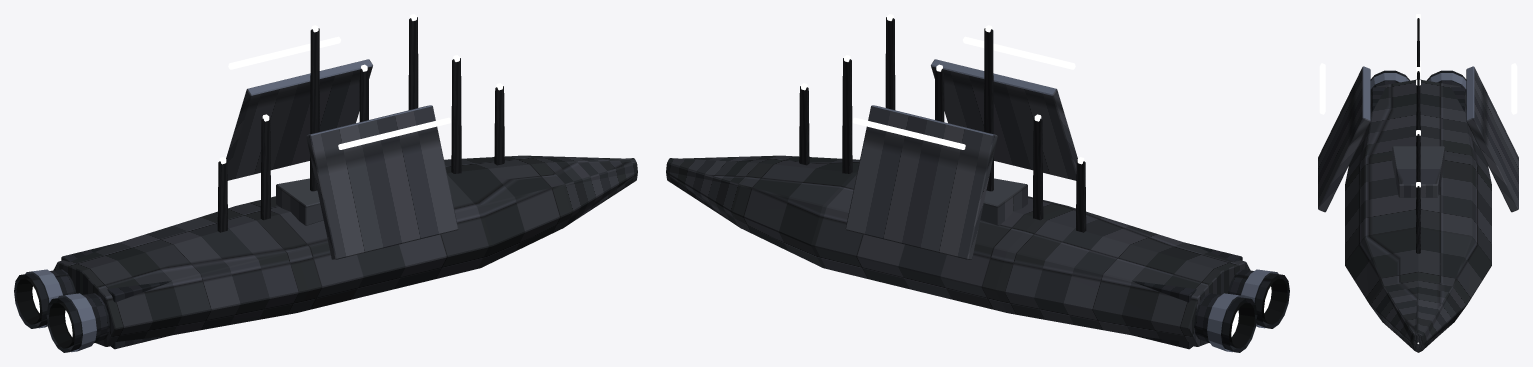
File: ewar.glb
3 views of the same model, side by side, from view 1: azimuth 30°, elevation 25°; view 2: azimuth 150°, elevation 25°; view 3: azimuth 270°, elevation 25° (orthographic). The views are drawn at different scales.
Visible parts, largest first — view 1: ewar; view 2: ewar; view 3: ewar.
Part boxes in pixels (<box>): ewar: <box>14,14,637,352</box>; ewar: <box>666,14,1289,352</box>; ewar: <box>1318,14,1518,352</box>.
Size of the model in its own units: 28 by 11.93 by 9.48.
Materials: 1 (1 with a texture image).
